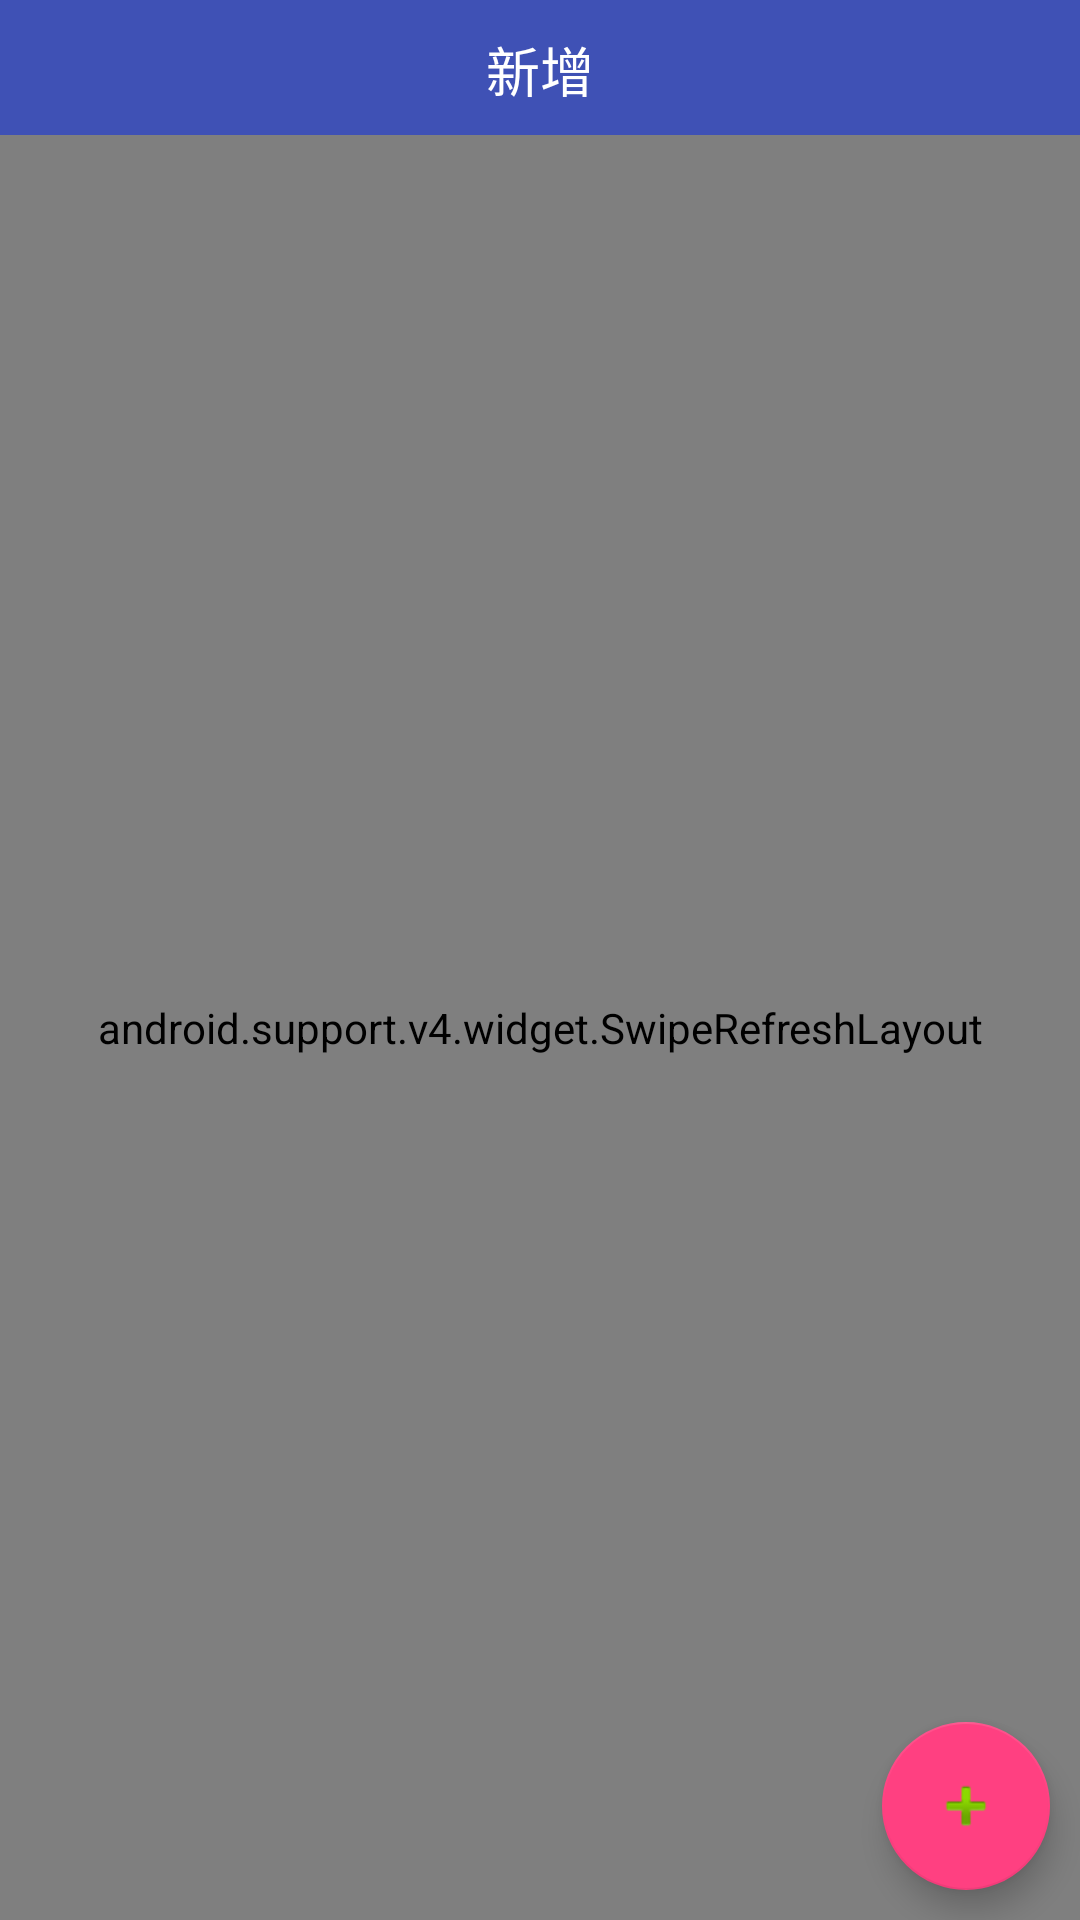

Where icons sit on this 1080*1920 app screen, as (x1, y1, x2, y2):
add: (882, 1722, 1050, 1890)
